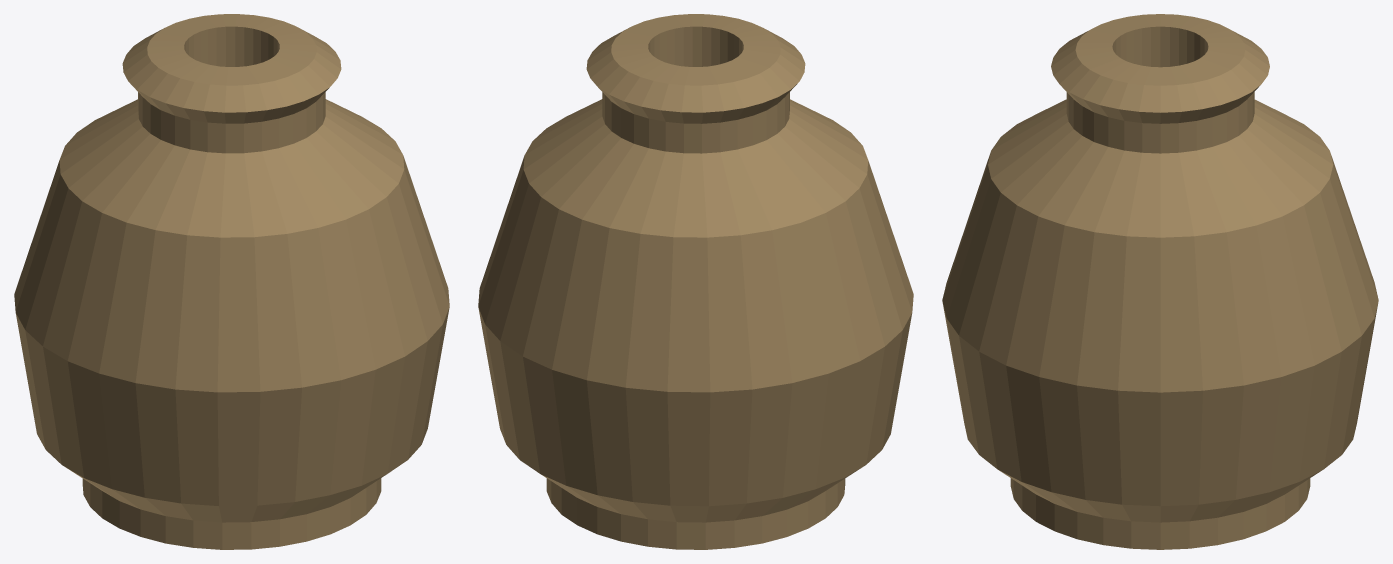
File: Vase_4.glb
3 renders of one model, left to right at view 1: azimuth 30°, elevation 25°; view 2: azimuth 150°, elevation 25°; view 3: azimuth 270°, elevation 25°, orthographic.
Visible parts, largest first — view 1: vase_4.001; view 2: vase_4.001; view 3: vase_4.001.
Part boxes in pixels (x1,y1,x2,y2): vase_4.001: (14,14,449,549); vase_4.001: (478,14,913,549); vase_4.001: (942,14,1378,549).
Bounding box in the file's own units: 1.08 × 1.2 × 1.08.
